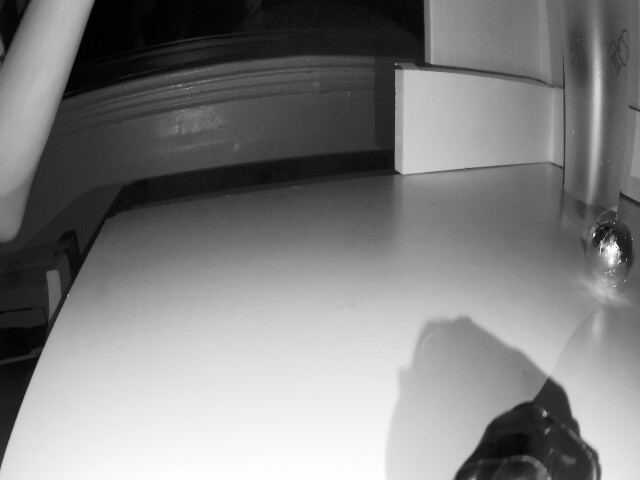black: (592, 212, 640, 310)
silver: (435, 401, 598, 480)
